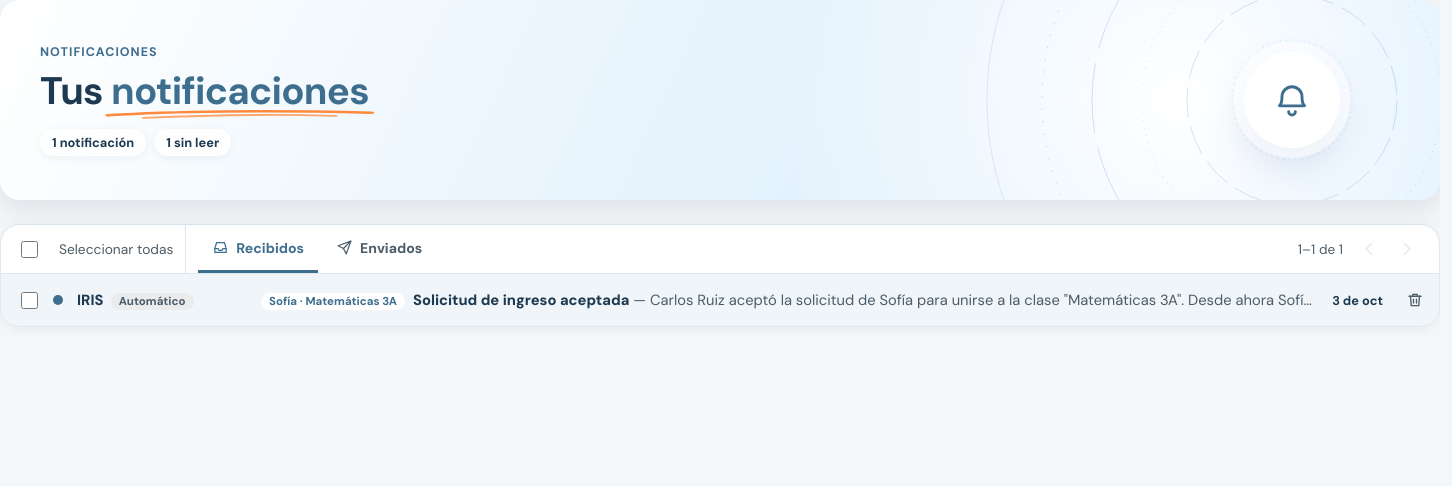
Test case: NotificacionesSection › splits the tray into Recibidos and Enviados, starting on Recibidos
Click the button "Enviados" at [379, 249], box [322,225,436,273]
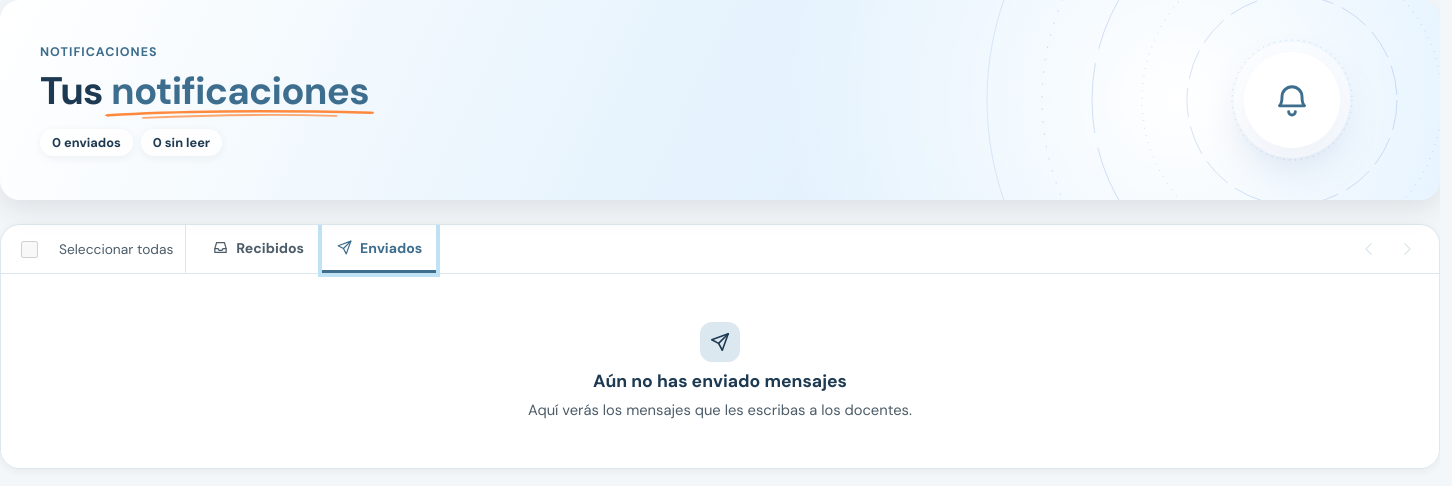
Check: the text "Aún no has enviado mensajes" is shown, box [593,370,847,392]
The bar stays, to go back.
Click the button "Recibidos" at [258, 249], box [198,225,318,273]
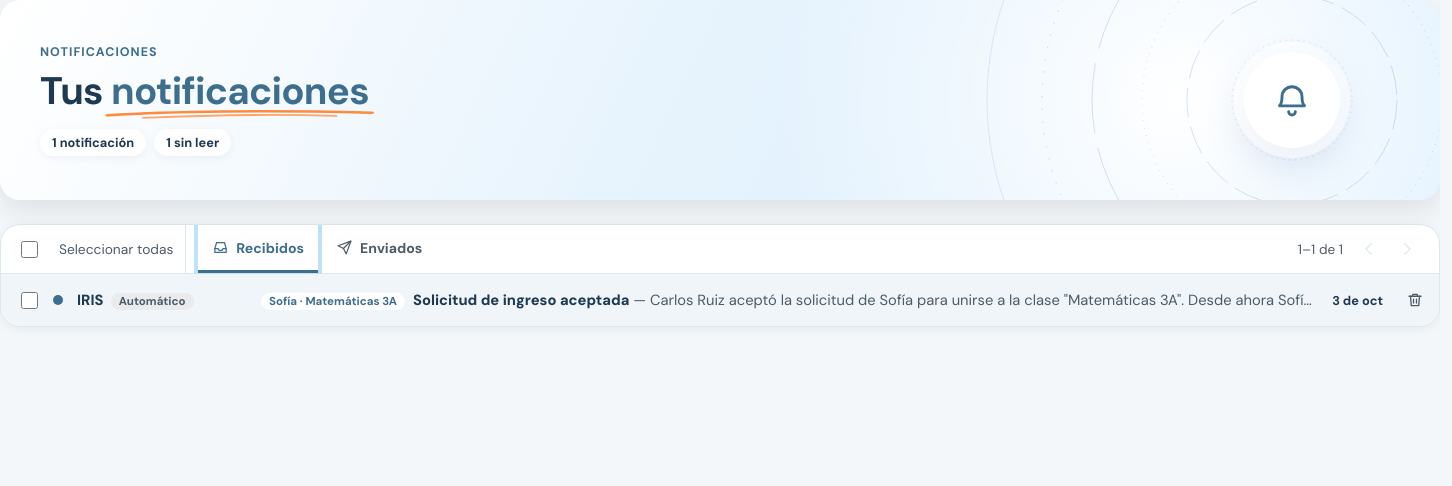
Check: the list named "Lista de notificaciones" is shown, box [1,274,1439,326]
